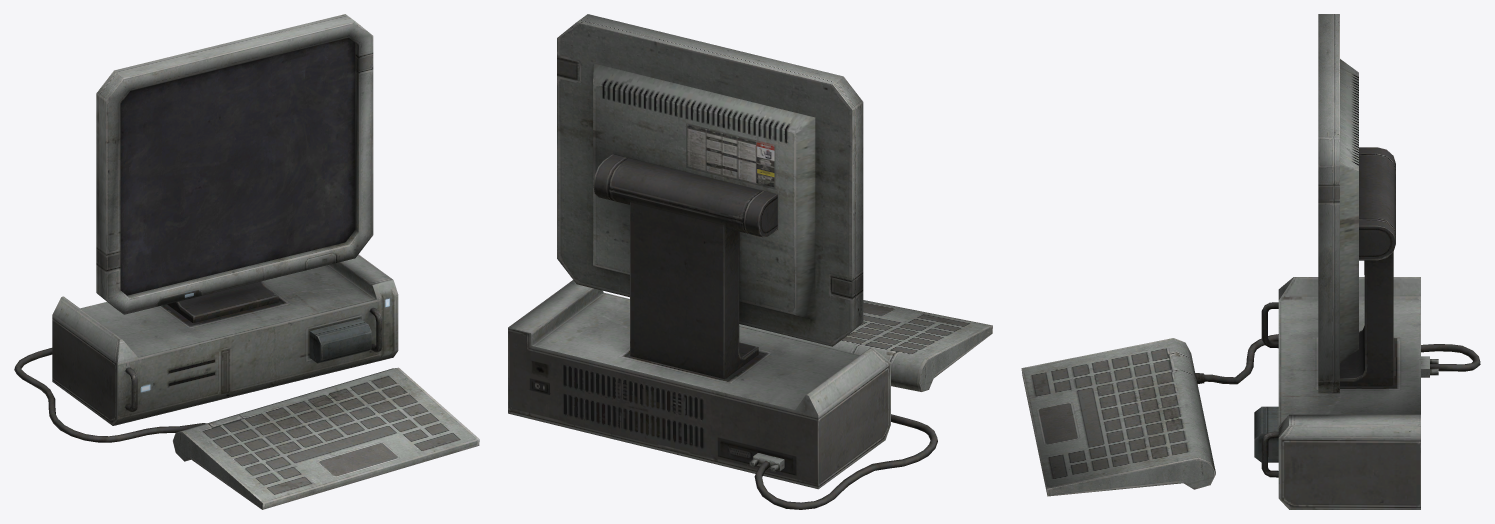
The model's file is computer_desktop.dae.
3 renders of one model, left to right at view 1: azimuth 30°, elevation 25°; view 2: azimuth 150°, elevation 25°; view 3: azimuth 270°, elevation 25°, orthographic. The views are drawn at different scales.
Parts seen in each view (by area): view 1: computer_laptop_modded; view 2: computer_laptop_modded; view 3: computer_laptop_modded.
Boxes of the visible parts, bbox=[...] form: computer_laptop_modded: bbox=[14, 14, 479, 509]; computer_laptop_modded: bbox=[508, 14, 992, 509]; computer_laptop_modded: bbox=[1021, 14, 1480, 509].
Bounding box in the file's own units: 0.6102 × 0.5948 × 0.6861.
